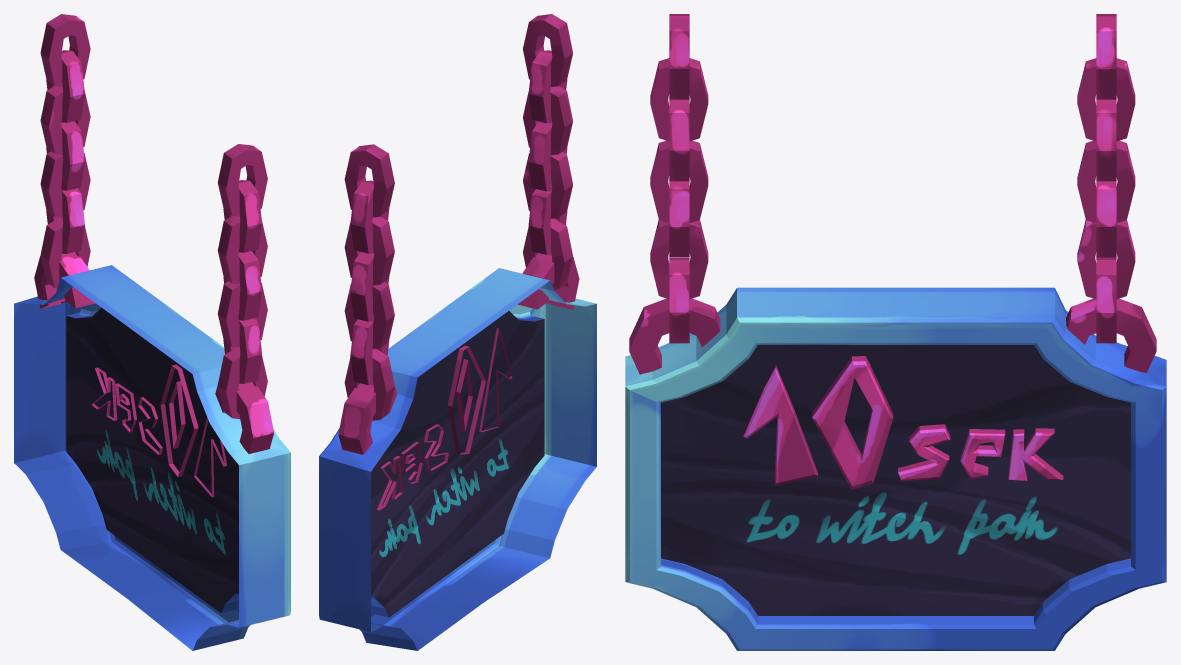
Rendered from Start.fbx.
3 views of the same model, side by side, from view 1: azimuth 30°, elevation 25°; view 2: azimuth 150°, elevation 25°; view 3: azimuth 270°, elevation 25° (orthographic). The views are drawn at different scales.
Parts seen in each view (by area): view 1: Cube; view 2: Cube; view 3: Cube.
Part boxes in pixels (box(x1,y1,x2,y2)): Cube: box(14, 14, 290, 650); Cube: box(319, 14, 596, 650); Cube: box(625, 14, 1166, 650).
Size of the model in its own units: 13.64 by 125 by 98.91.
